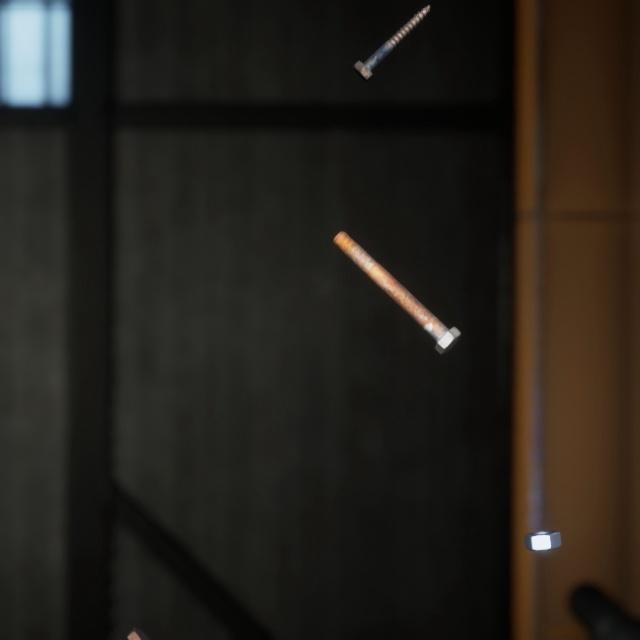bolt: (328, 210, 465, 342), (348, 0, 434, 78), (100, 598, 156, 640)
nut: (520, 503, 566, 532)
